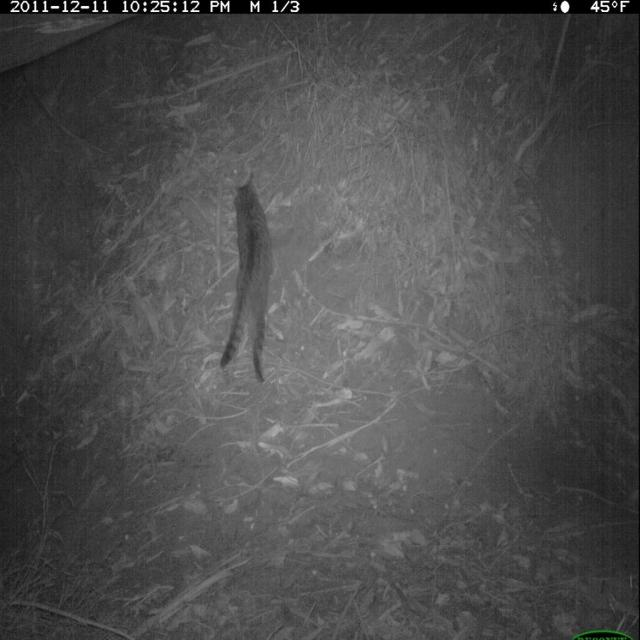cat: (216, 169, 280, 390)
